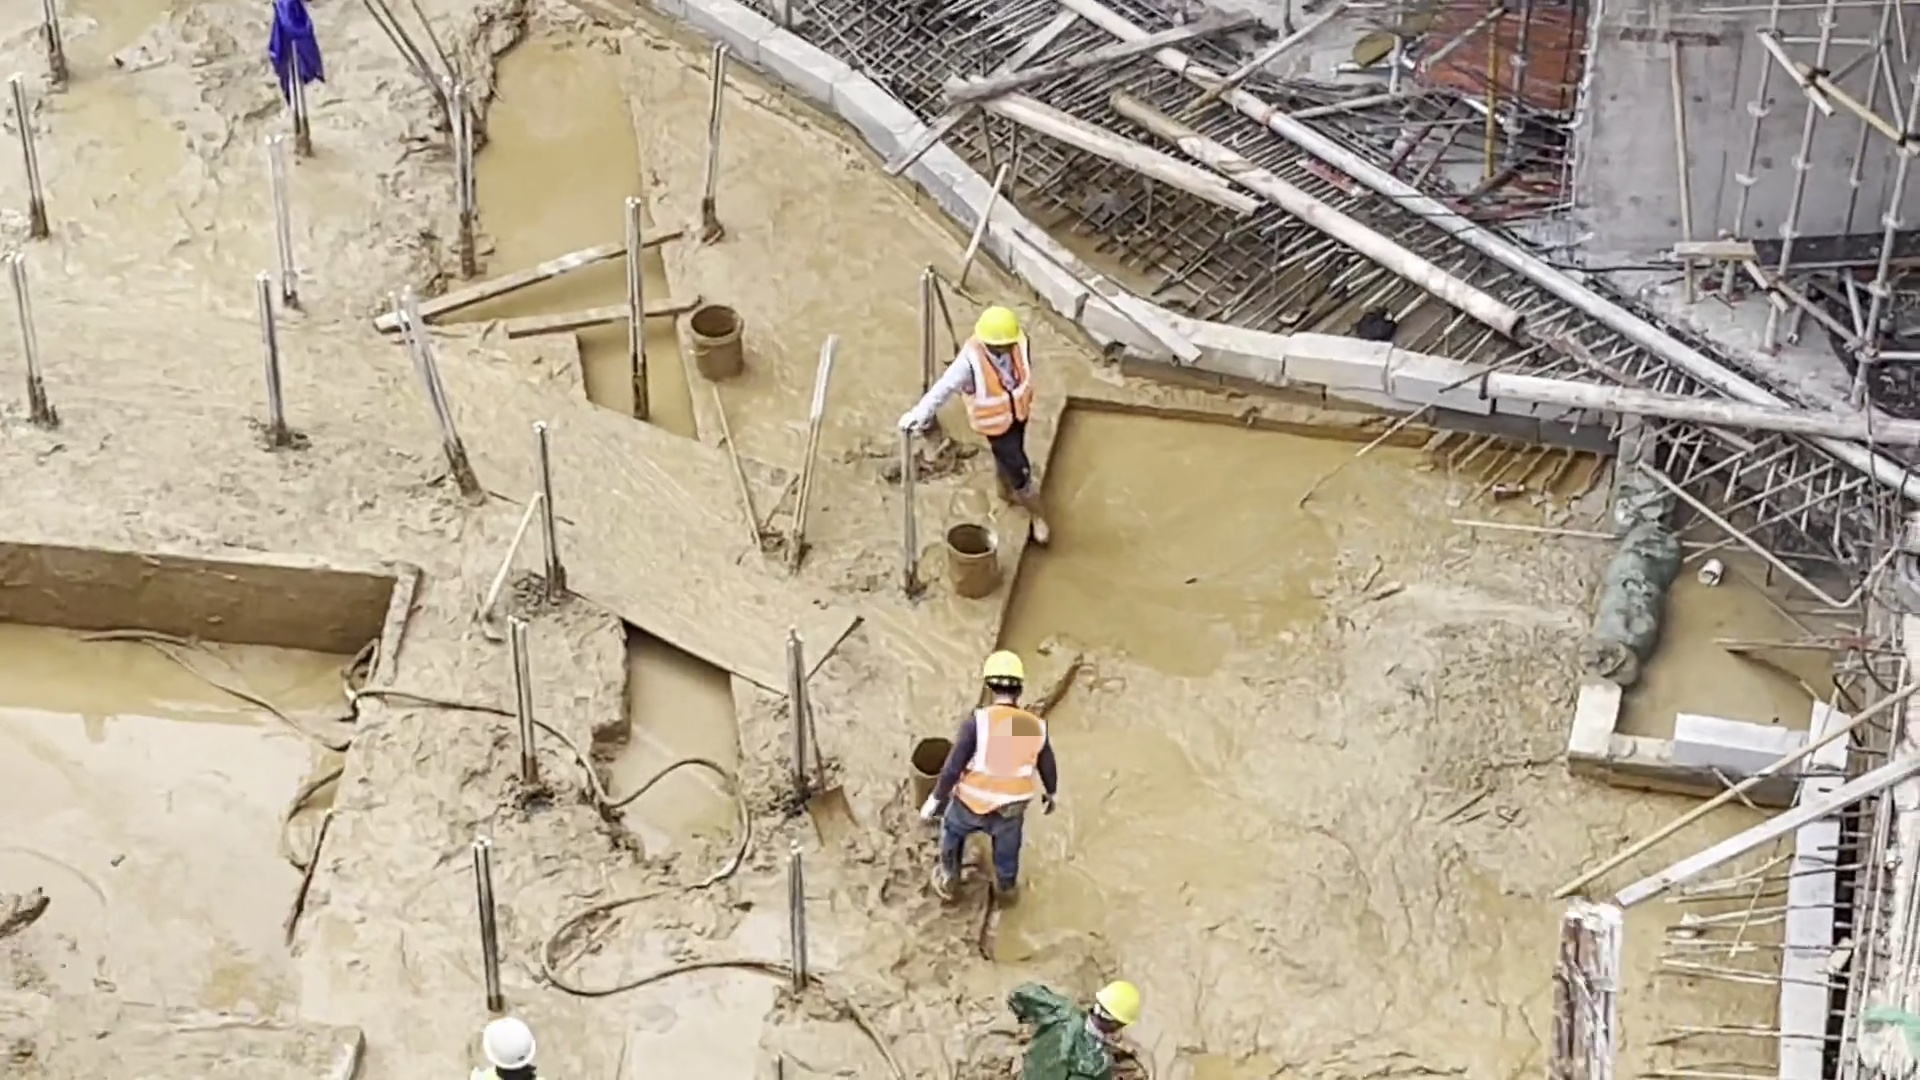helmet: (481, 1013, 541, 1071), (1096, 976, 1148, 1024), (981, 646, 1028, 687), (978, 305, 1019, 343)
person: (903, 298, 1059, 554), (922, 643, 1063, 912), (1007, 967, 1151, 1080), (459, 1017, 554, 1080)
vest: (960, 706, 1048, 815), (964, 338, 1033, 443)
